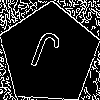J: (24, 29, 63, 81)
